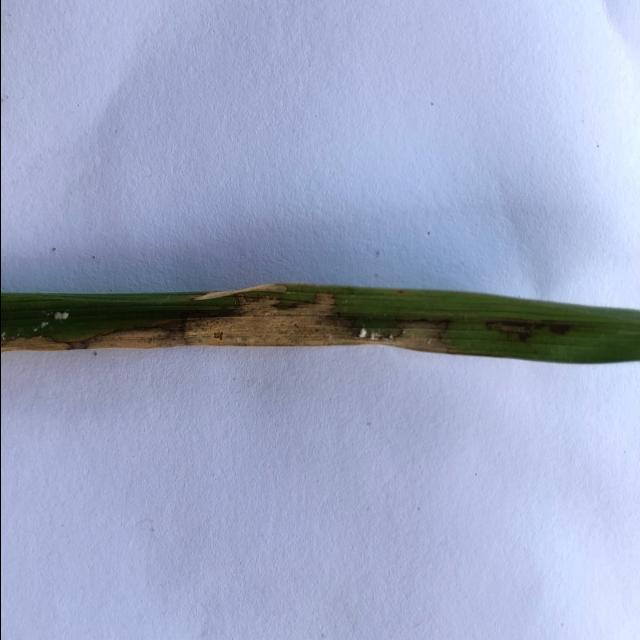Leaf Blight: (90, 294, 450, 351), (188, 283, 286, 303), (0, 336, 65, 351)
